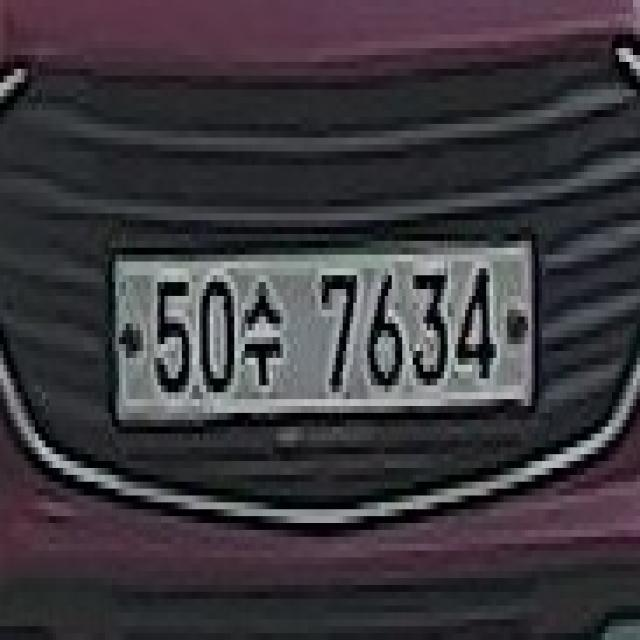0: (198, 272, 239, 398)
3: (408, 269, 451, 394)
4: (455, 264, 500, 398)
5: (149, 272, 193, 400)
6: (364, 262, 406, 400)
7: (314, 261, 359, 402)
license_plate: (106, 222, 542, 428)
su: (240, 274, 284, 398)
